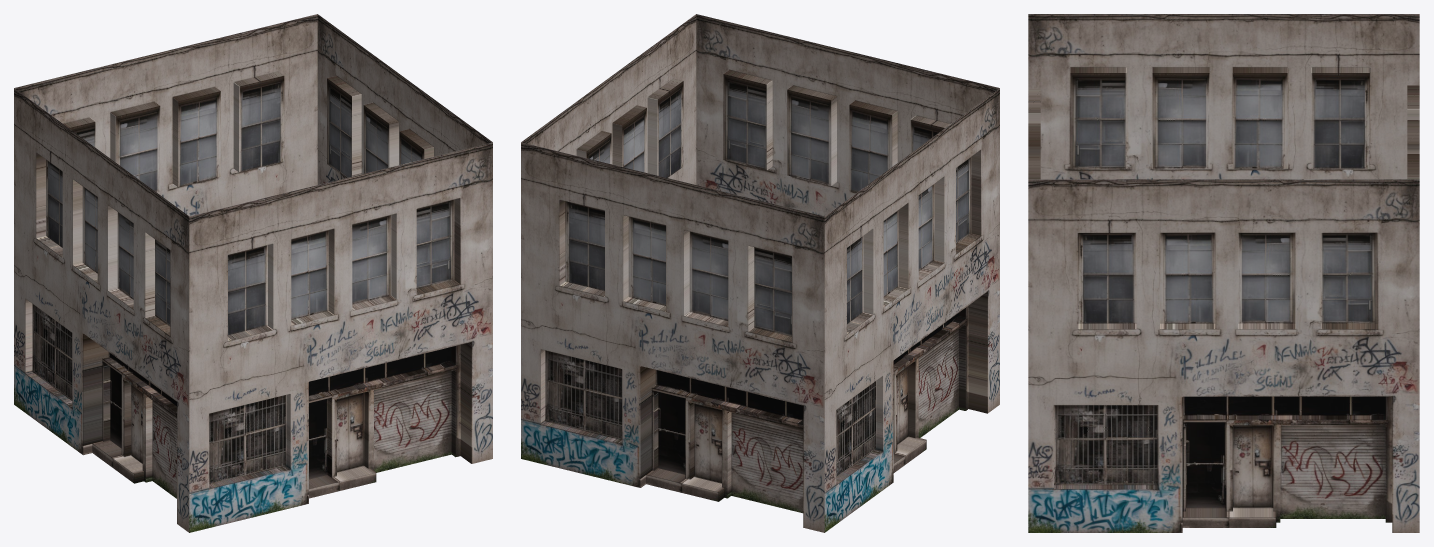
3 views of the same model, side by side, from view 1: azimuth 30°, elevation 25°; view 2: azimuth 150°, elevation 25°; view 3: azimuth 270°, elevation 25° (orthographic). The views are drawn at different scales.
Visible parts, largest first — view 1: building.001, building.002, building.003, building; view 2: building.003, building.002, building.001, building; view 3: building, building.002, building.003, building.001.
Part boxes in pixels (bbox=[...]): building.001: bbox=[189, 142, 492, 532]; building.002: bbox=[14, 88, 189, 532]; building.003: bbox=[14, 14, 317, 216]; building: bbox=[317, 14, 492, 184]; building.003: bbox=[521, 142, 824, 532]; building.002: bbox=[824, 88, 999, 532]; building.001: bbox=[696, 14, 999, 216]; building: bbox=[521, 14, 696, 184]; building: bbox=[1028, 179, 1419, 532]; building.002: bbox=[1028, 14, 1419, 179]; building.003: bbox=[1407, 85, 1419, 179]; building.001: bbox=[1028, 88, 1040, 179].
Size of the model in its own units: 9.04 by 9.01 by 9.04.
2 materials, 2 textured.
